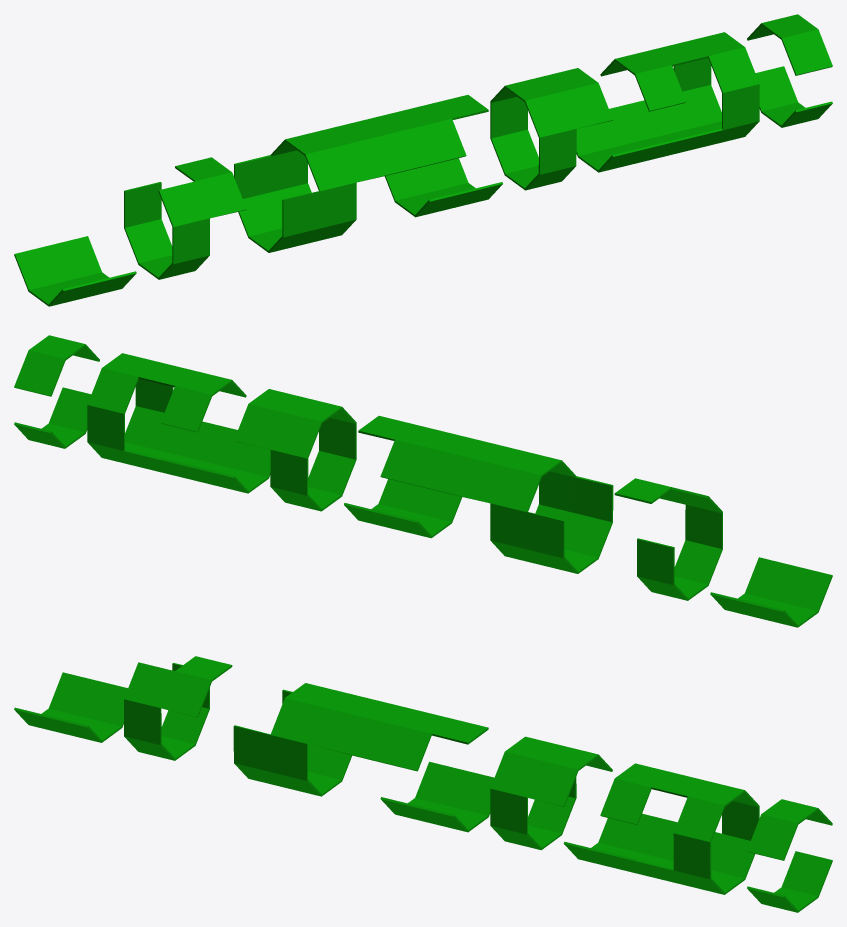
The model's file is level3.obj.
3 views of the same model, one above another, from view 1: azimuth 30°, elevation 25°; view 2: azimuth 150°, elevation 25°; view 3: azimuth 330°, elevation 25° (orthographic).
Visible parts, largest first — view 1: Cube_Cube.002; view 2: Cube_Cube.002; view 3: Cube_Cube.002.
Part boxes in pixels (left/top/right/bottom): Cube_Cube.002: left=14, top=14, right=832, bottom=306; Cube_Cube.002: left=14, top=335, right=832, bottom=627; Cube_Cube.002: left=14, top=656, right=832, bottom=912.
Size of the model in its own units: 20 by 2.23 by 2.23.
